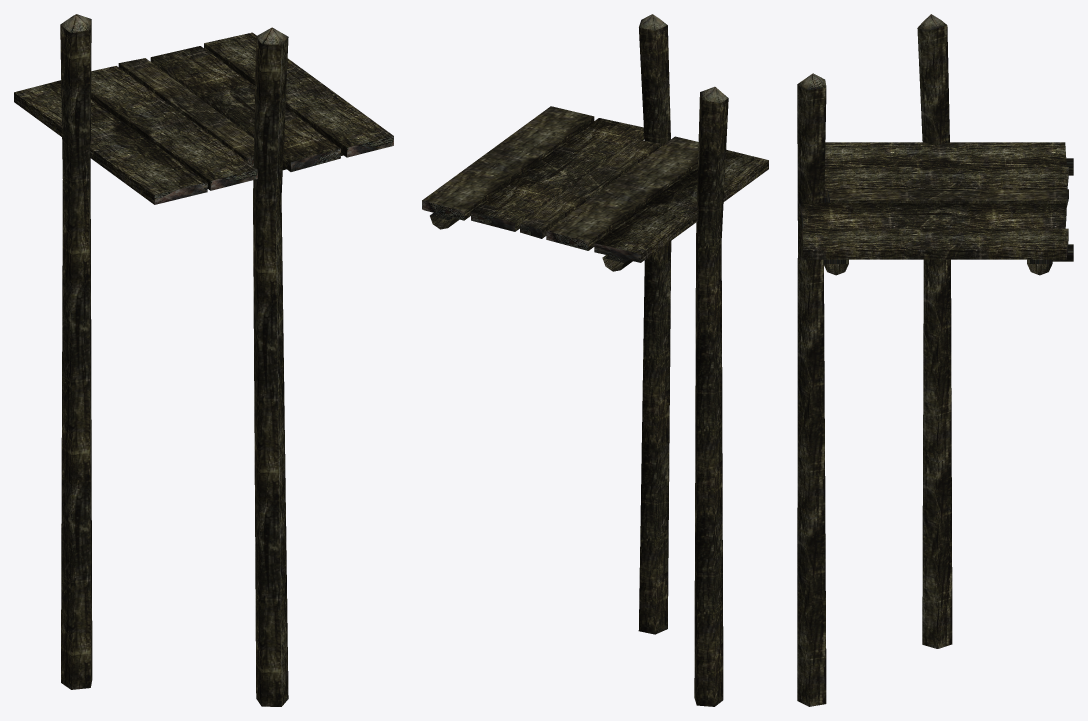
The model's file is ex_common_plat_corn.obj.
The picture shows the model from 3 angles, left to right: view 1: azimuth 30°, elevation 25°; view 2: azimuth 150°, elevation 25°; view 3: azimuth 270°, elevation 25°; orthographic projection. The views are drawn at different scales.
Parts seen in each view (by area): view 1: nifid_16-matrix_Tri_Ex_common_plat_corn_3-lib, nifid_21-matrix_Tri_Ex_common_plat_corn_4-lib, nifid_11-matrix_Tri_Ex_common_plat_corn_2-lib; view 2: nifid_16-matrix_Tri_Ex_common_plat_corn_3-lib, nifid_21-matrix_Tri_Ex_common_plat_corn_4-lib, nifid_11-matrix_Tri_Ex_common_plat_corn_2-lib; view 3: nifid_16-matrix_Tri_Ex_common_plat_corn_3-lib, nifid_11-matrix_Tri_Ex_common_plat_corn_2-lib, nifid_6-matrix_Tri_Ex_common_plat_corn_1-lib, nifid_1-matrix_Tri_Ex_common_plat_corn_0-lib.
Part boxes in pixels (x1,y1,x2,y2): nifid_16-matrix_Tri_Ex_common_plat_corn_3-lib: (14,20,393,706); nifid_21-matrix_Tri_Ex_common_plat_corn_4-lib: (154,136,393,204); nifid_11-matrix_Tri_Ex_common_plat_corn_2-lib: (60,14,288,44); nifid_16-matrix_Tri_Ex_common_plat_corn_3-lib: (422,25,768,706); nifid_21-matrix_Tri_Ex_common_plat_corn_4-lib: (422,200,640,262); nifid_11-matrix_Tri_Ex_common_plat_corn_2-lib: (639,14,728,103); nifid_16-matrix_Tri_Ex_common_plat_corn_3-lib: (797,25,1068,706); nifid_11-matrix_Tri_Ex_common_plat_corn_2-lib: (797,14,946,90); nifid_6-matrix_Tri_Ex_common_plat_corn_1-lib: (823,169,1073,275); nifid_1-matrix_Tri_Ex_common_plat_corn_0-lib: (823,158,1073,263).
Bounding box in the file's own units: 6.88 × 16.57 × 6.62.
